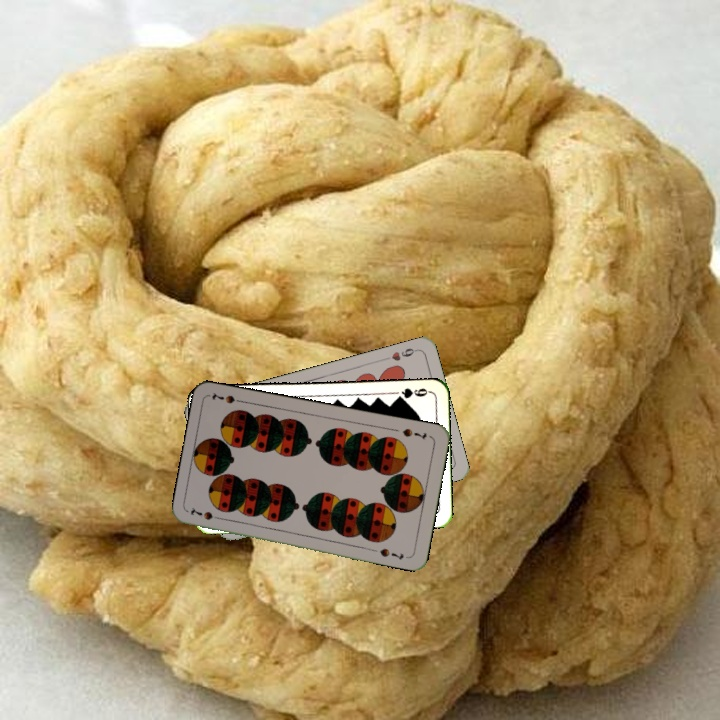G9: (392, 384, 432, 403)
H9: (380, 344, 420, 364)
S7: (399, 424, 429, 442), (199, 507, 226, 523)
